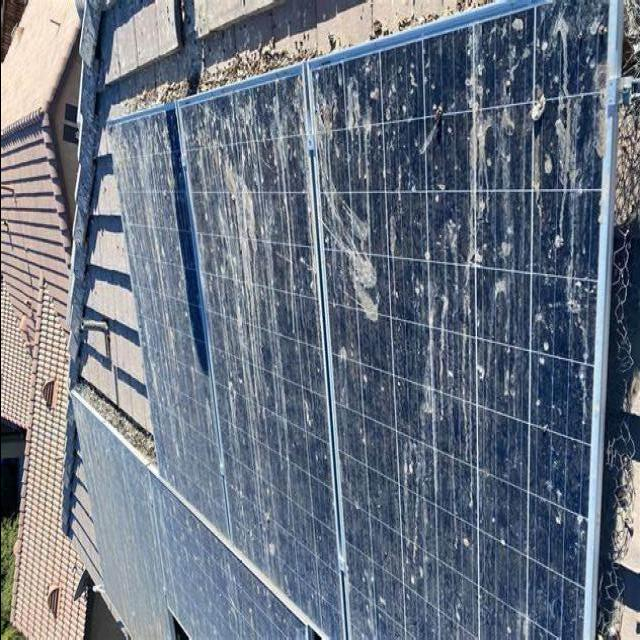soiled: (81, 19, 631, 640)
